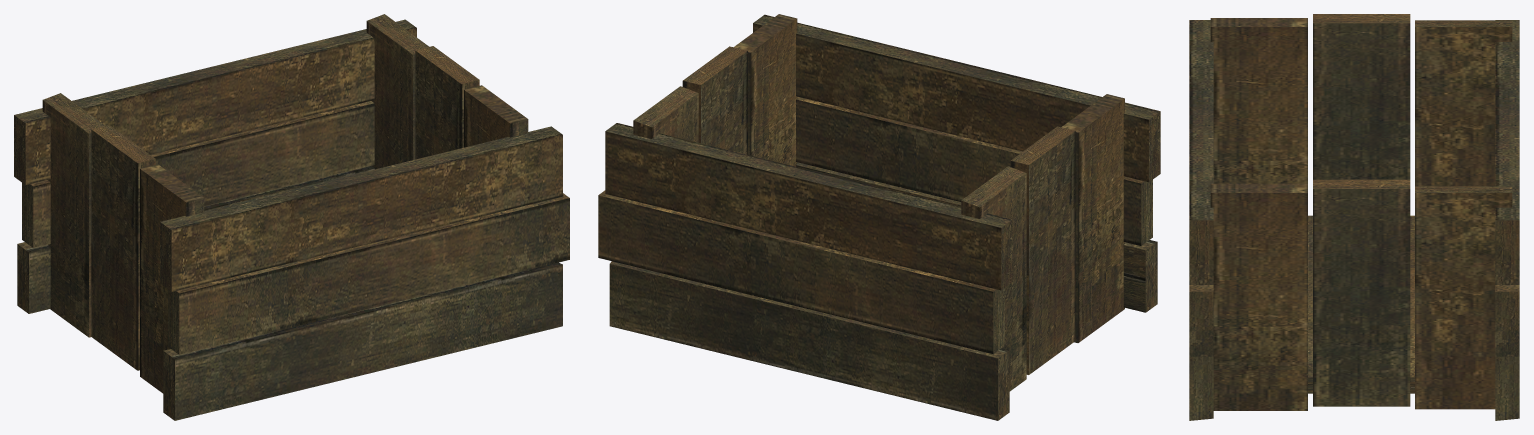
3 renders of one model, left to right at view 1: azimuth 30°, elevation 25°; view 2: azimuth 150°, elevation 25°; view 3: azimuth 270°, elevation 25°, orthographic. The views are drawn at different scales.
Visible parts, largest first — view 1: box05; view 2: box05; view 3: box05.
Part boxes in pixels (x1,y1,x2,y2): box05: (14, 14, 569, 420); box05: (598, 14, 1160, 420); box05: (1189, 14, 1519, 420).
Size of the model in its own units: 0.9052 by 0.4597 by 0.6202.
1 material, 1 textured.
